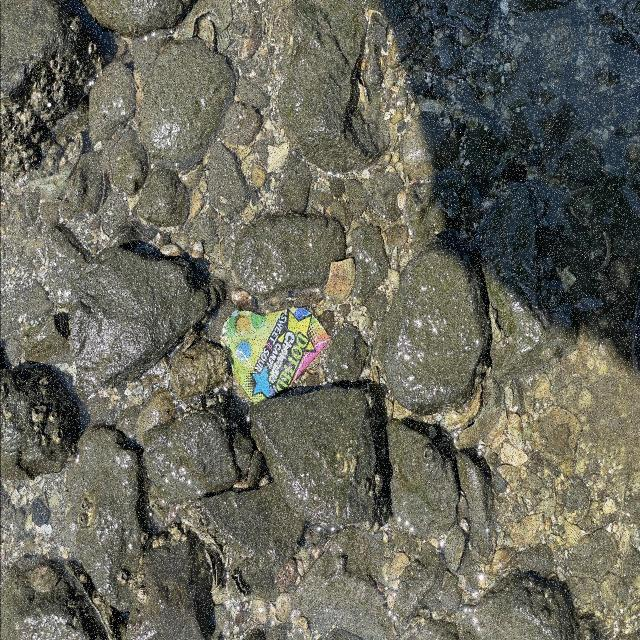plastic_waste: (221, 306, 331, 403)
